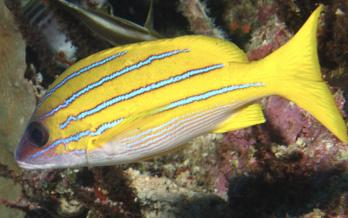Lutjanidae -Snappers-: (11, 3, 348, 174)
